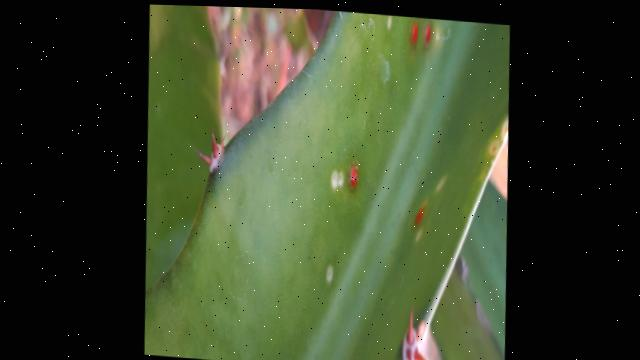stemcanker: (342, 161, 363, 195), (410, 201, 432, 233), (407, 20, 423, 48), (423, 23, 436, 50)
